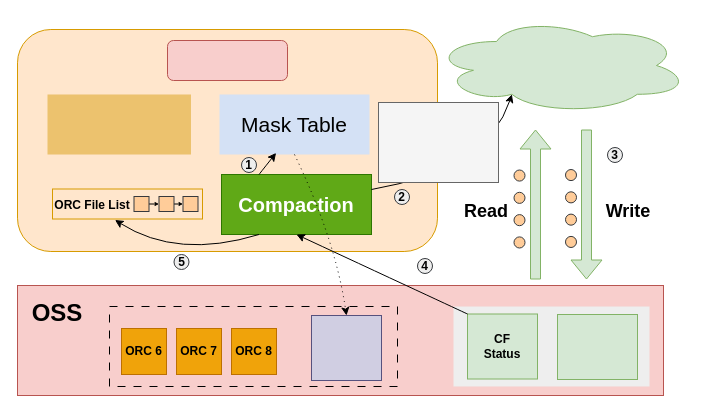
The diagram is 706 pixels wide and 413 high, and some of its shapes have lost their labels. Here are the shapes that lost their labels. From the top down, the centre of each, then its label:
[227,60]: OldestSeq=5
[560,65]: Cloud Function
[118,124]: Column Table
[438,142]: Parameters: [ Seq, File IDs, Mask BitMap, Target File ID]
[346,347]: Mask BitMap
[597,347]: ORC 9
